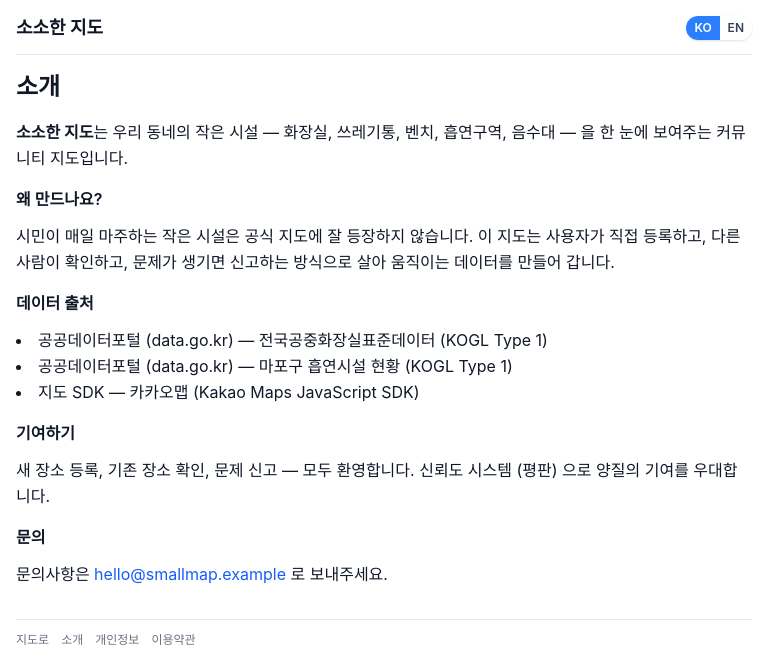
Scenario: AboutPage › switches to English when toggled
Step 1. Click the radio button with test id "language-en" → (736, 28), box [720,16,752,40]
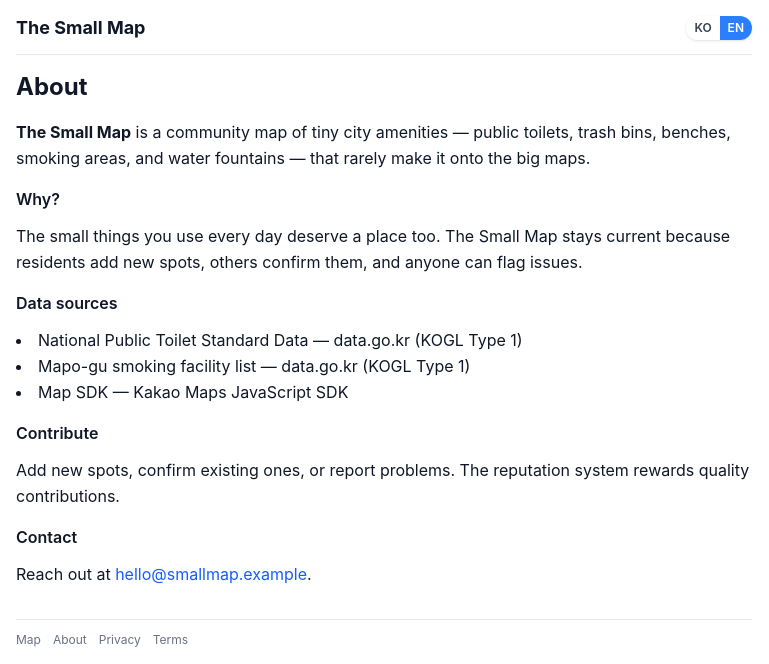
Expected: the element with test id "about-intro" shows "Small Map", [16,122,131,142]
Expected: the heading "Data sources" is shown, [16,293,118,313]
